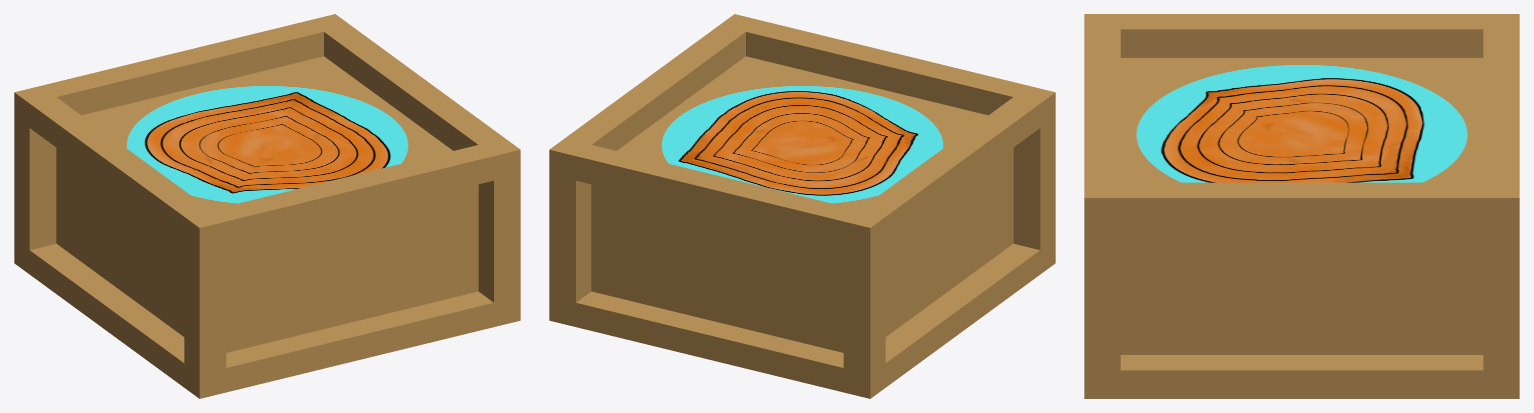
The model's file is OnionBox.FBX.
The picture shows the model from 3 angles, left to right: view 1: azimuth 30°, elevation 25°; view 2: azimuth 150°, elevation 25°; view 3: azimuth 270°, elevation 25°; orthographic projection. The views are drawn at different scales.
Parts seen in each view (by area): view 1: Box001; view 2: Box001; view 3: Box001.
Part boxes in pixels (box(x1,y1,x2,y2)): Box001: box(14, 14, 520, 398); Box001: box(549, 14, 1055, 398); Box001: box(1084, 14, 1519, 398).
Bounding box in the file's own units: 138 × 138 × 70.
Materials: 2 (2 with a texture image).
